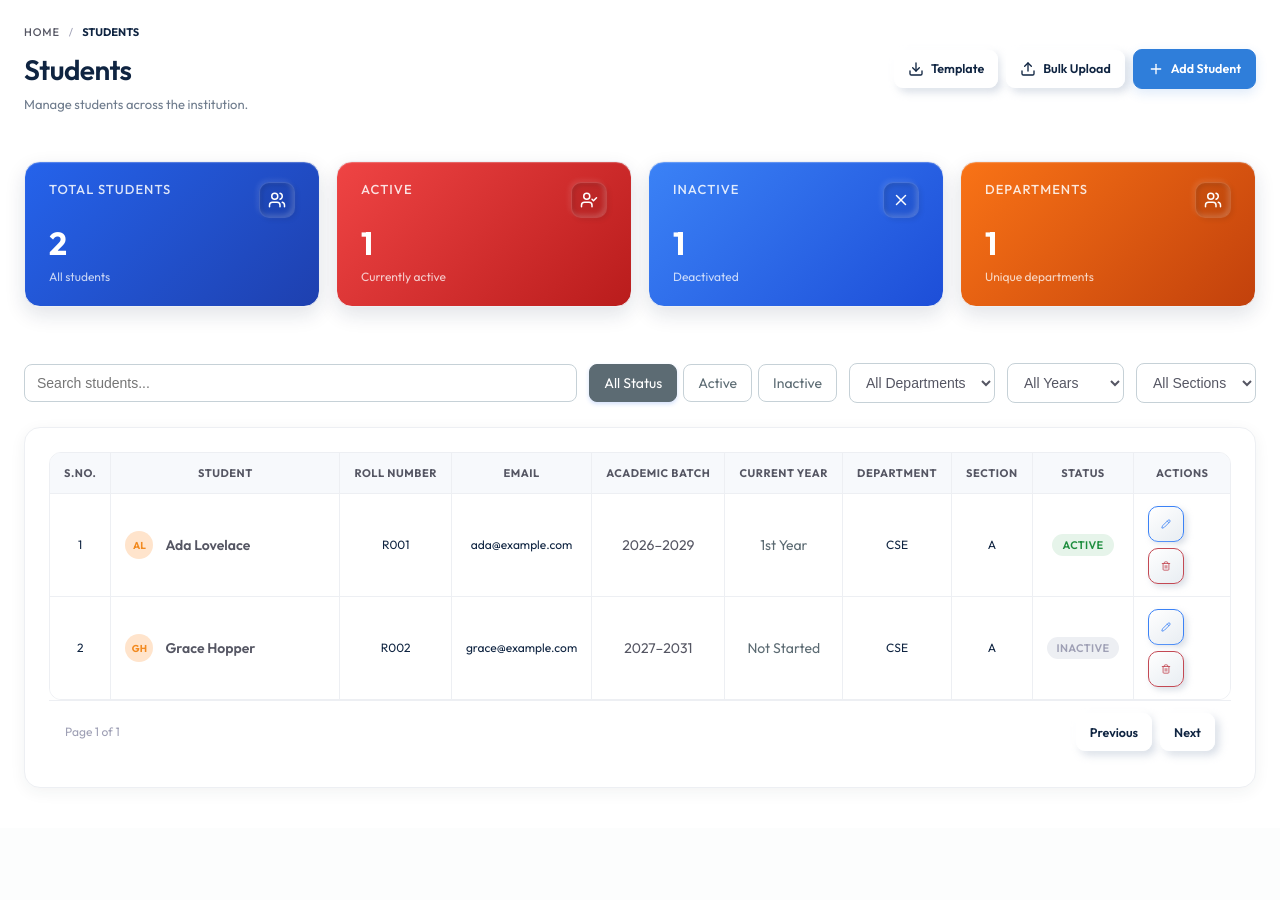
Test: surfaces a success notification
expect the text "Grace Hopper" is shown: met, box [165, 639, 255, 657]
Click the button with aria-label "Activate Grace Hopper": [1083, 648] box [1047, 637, 1119, 659]
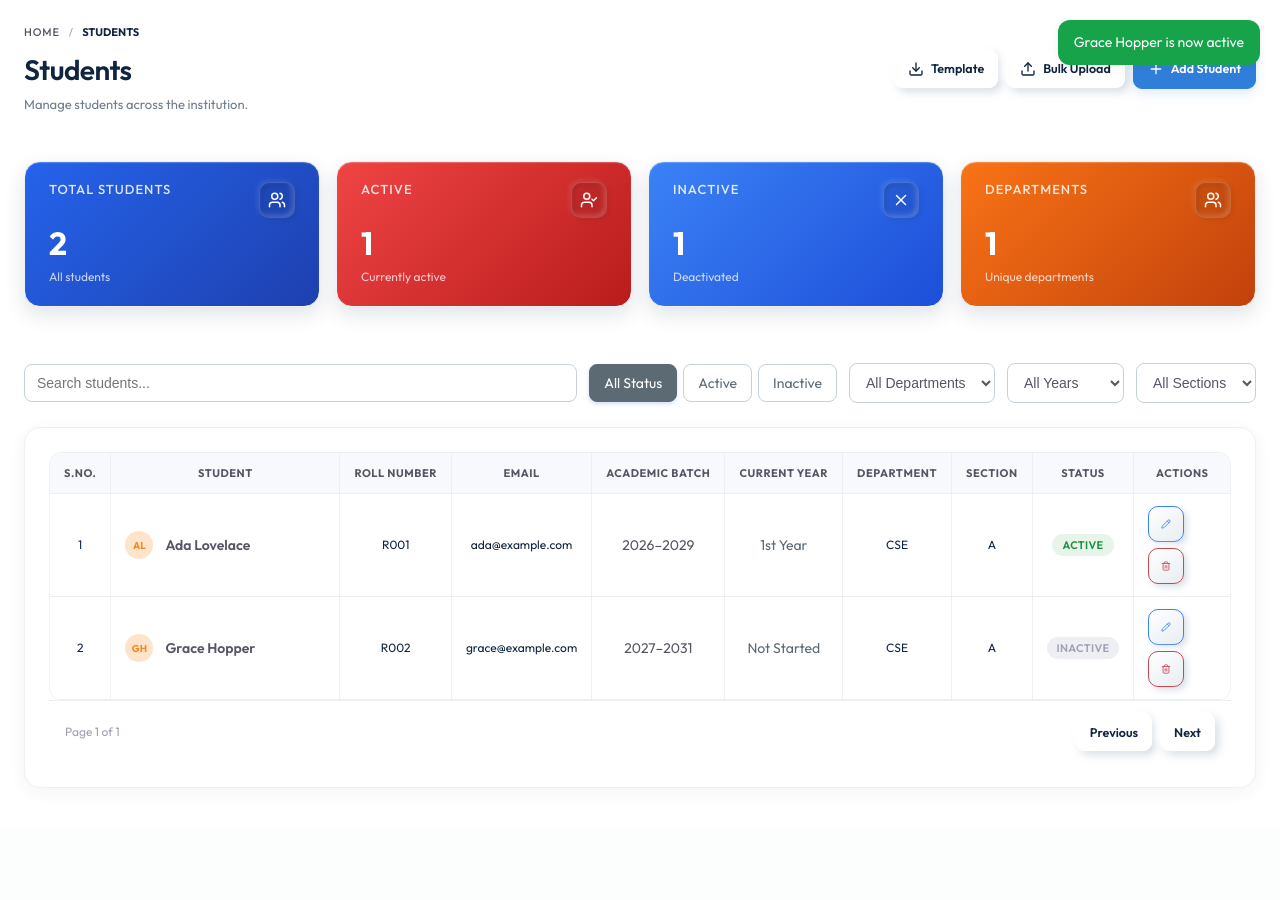
expect the text "Grace Hopper is now active" is shown: met, box [1058, 20, 1260, 65]
